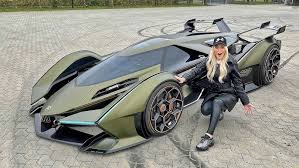car: (31, 18, 286, 152)
